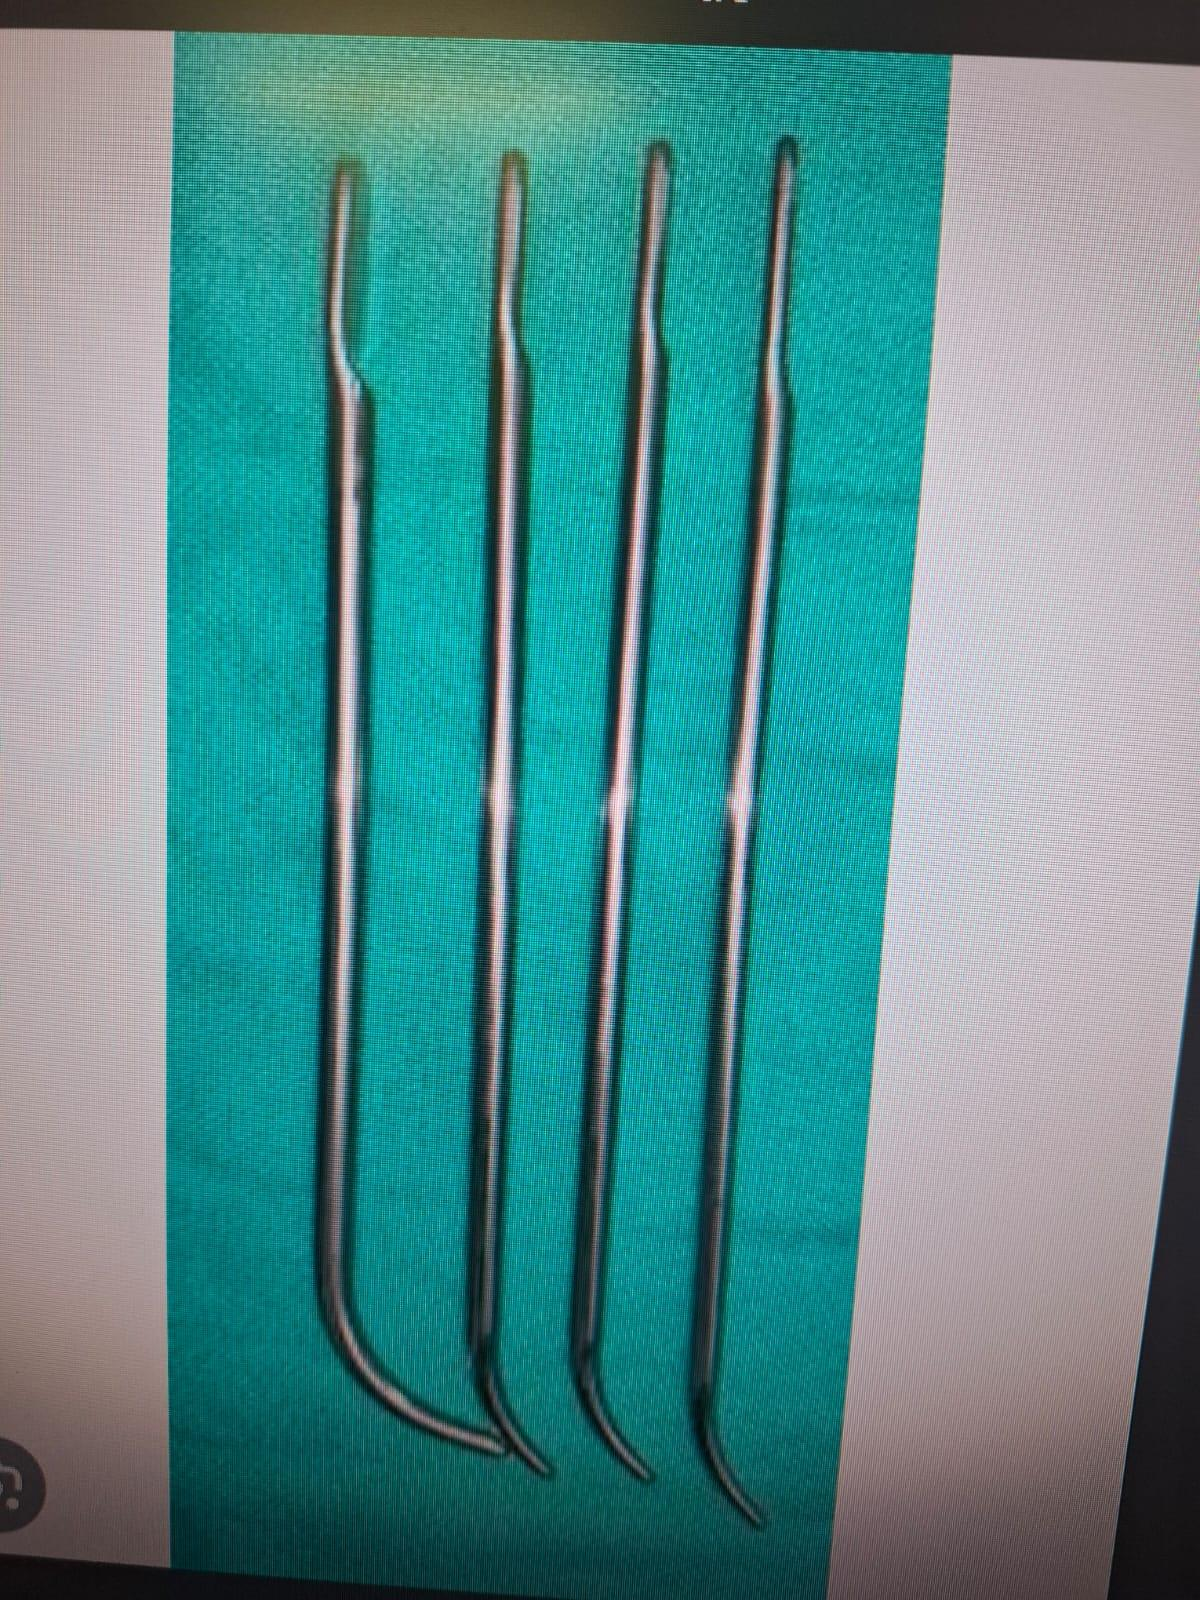Urethral Dilators: (252, 128, 512, 1472), (558, 130, 758, 1492), (392, 117, 590, 1482), (670, 120, 822, 1548)
